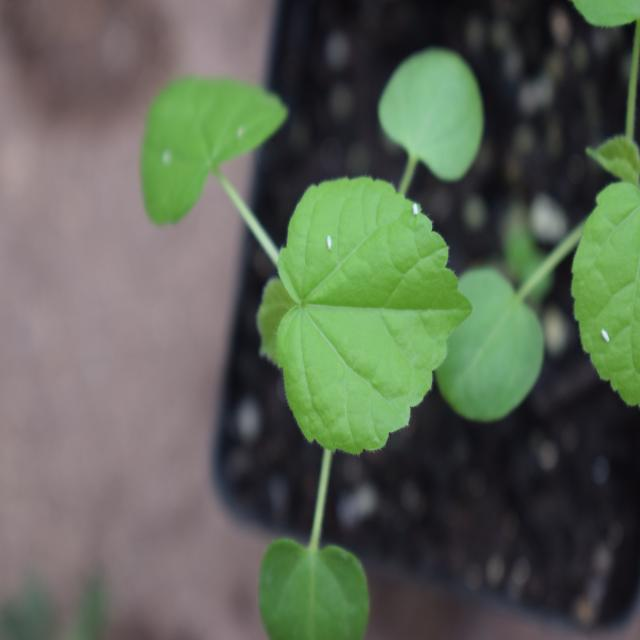abutilon theophrasti: (138, 37, 494, 604)
